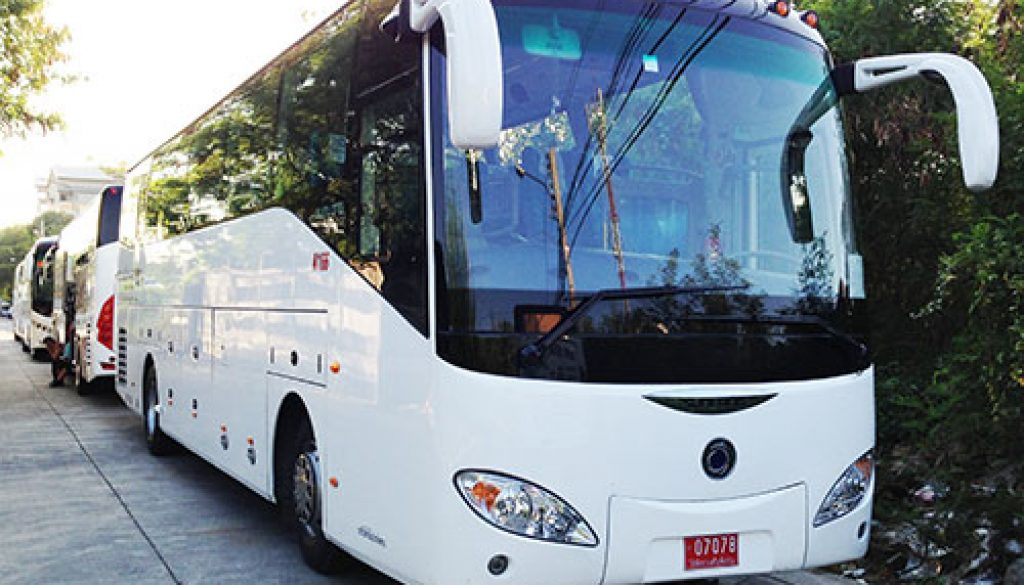bus: (115, 1, 876, 583)
